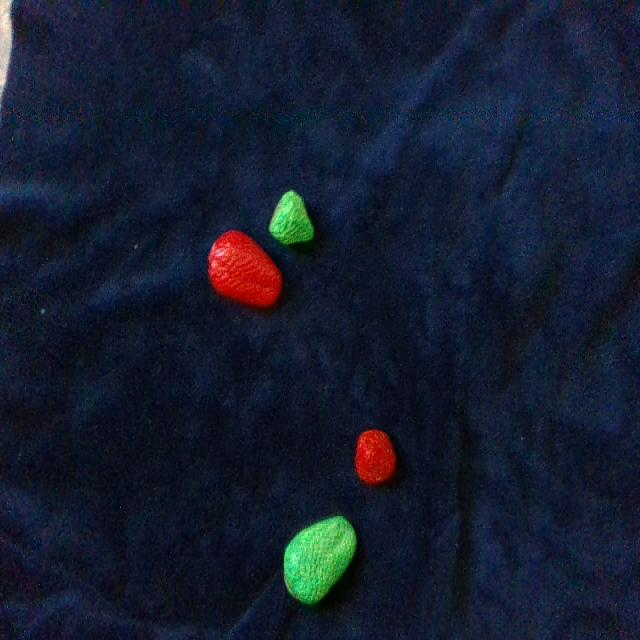chica_roja: (355, 431, 395, 484)
grande_roja: (209, 232, 280, 307)
verde: (284, 516, 356, 604), (269, 191, 313, 244)
